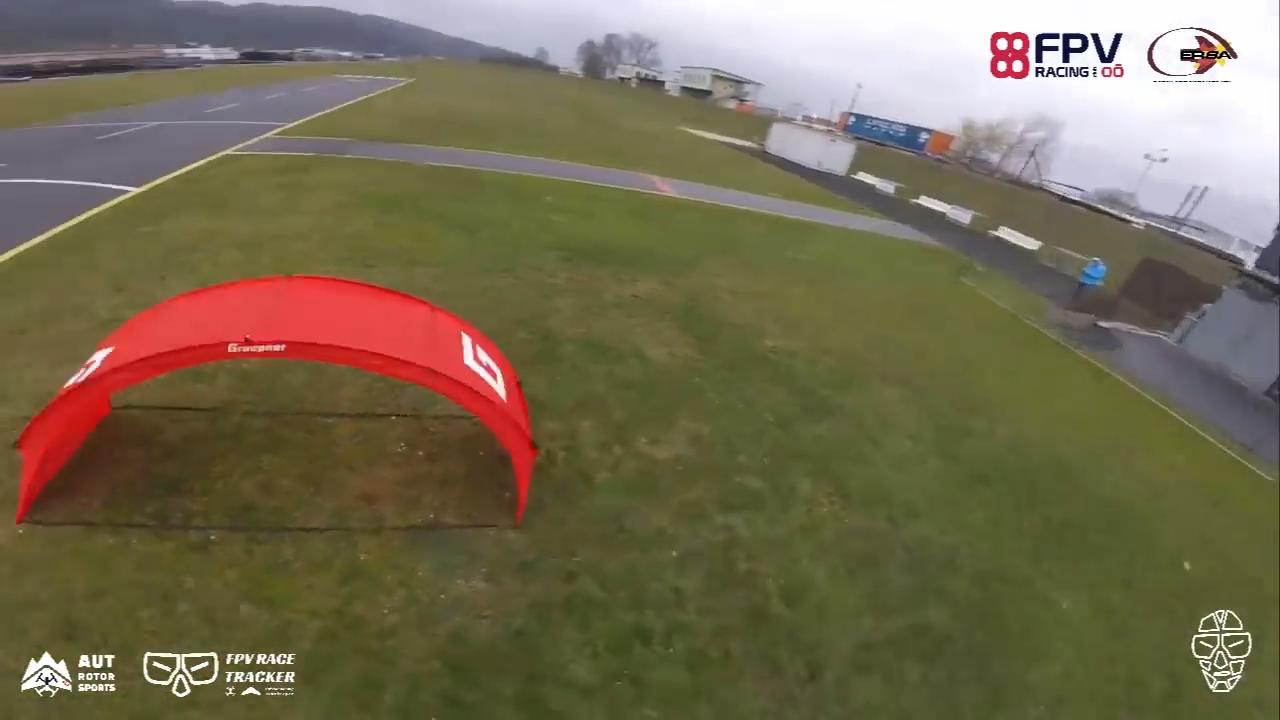gate: (12, 270, 537, 528)
